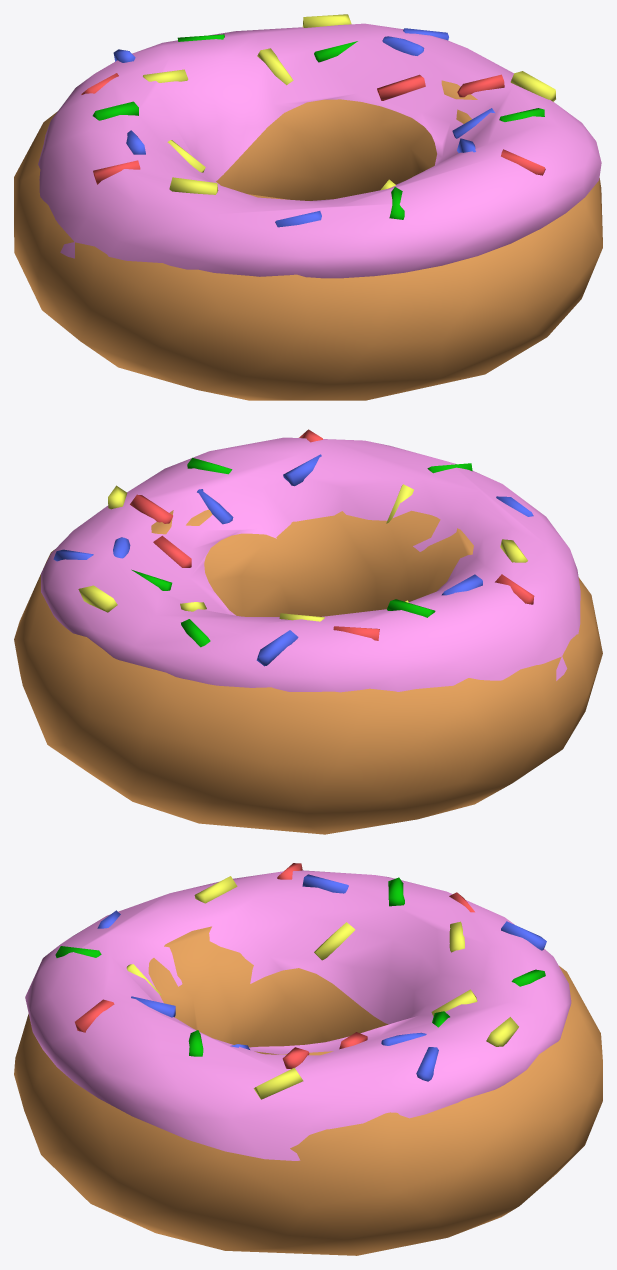
The model's file is donut1.obj.
3 renders of one model, top to bottom at view 1: azimuth 30°, elevation 25°; view 2: azimuth 150°, elevation 25°; view 3: azimuth 270°, elevation 25°, orthographic.
Visible parts, largest first — view 1: mesh02, mesh01, mesh26, mesh25, mesh06, mesh11, mesh04, mesh17, mesh03; view 2: mesh01, mesh02, mesh15, mesh11, mesh17; view 3: mesh02, mesh01, mesh26, mesh21, mesh17, mesh06, mesh14.
Boxes of the visible parts, left/top/right/bottom form: mesh02: left=38, top=23, right=601, bottom=278; mesh01: left=14, top=80, right=602, bottom=400; mesh26: left=510, top=71, right=555, bottom=101; mesh25: left=377, top=74, right=425, bottom=100; mesh06: left=169, top=177, right=218, bottom=194; mesh11: left=457, top=74, right=504, bottom=97; mesh04: left=257, top=48, right=293, bottom=85; mesh17: left=302, top=14, right=351, bottom=27; mesh03: left=92, top=101, right=138, bottom=120; mesh01: left=14, top=509, right=602, bottom=834; mesh02: left=41, top=437, right=580, bottom=692; mesh15: left=256, top=630, right=298, bottom=666; mesh11: left=130, top=494, right=172, bottom=523; mesh17: left=78, top=585, right=117, bottom=612; mesh02: left=25, top=870, right=571, bottom=1160; mesh01: left=14, top=926, right=602, bottom=1255; mesh26: left=253, top=1067, right=303, bottom=1099; mesh21: left=314, top=922, right=355, bottom=960; mesh17: left=486, top=1017, right=518, bottom=1046; mesh06: left=194, top=876, right=237, bottom=903; mesh14: left=302, top=874, right=348, bottom=893.
Size of the model in its own units: 1.03 by 0.4009 by 1.02.
